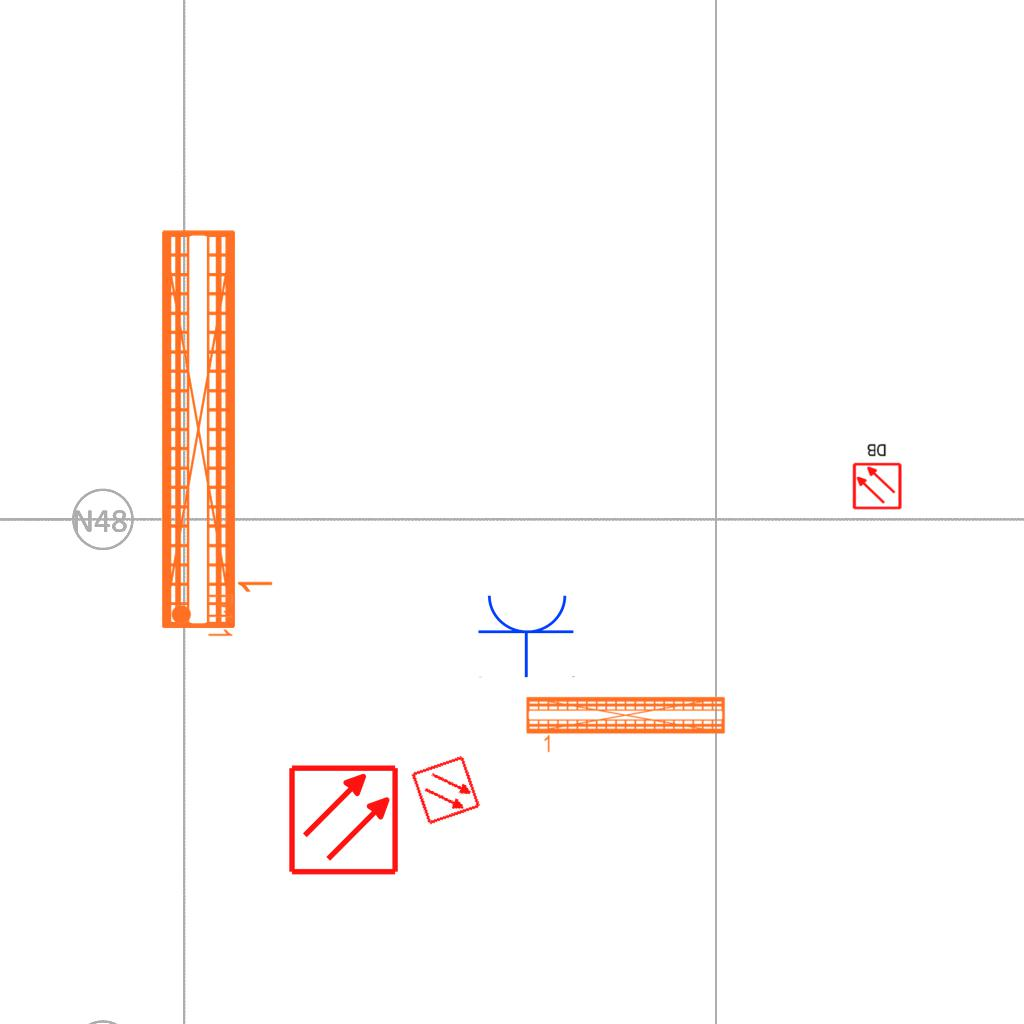Buero_Pendelleuchten_LED: (152, 222, 282, 635), (523, 692, 729, 757)
DB_Melder_in_Doppelboden_mit_Revisionsoeffnung_mind_40_x_40_cm: (848, 439, 905, 513)
Downlight_LED_Einbauleuchten_Flur_2: (170, 593, 234, 639)
RMO_Rauchmelder_optischer: (287, 763, 400, 876), (410, 754, 482, 826)
Schukosteckdose_einfach: (477, 591, 577, 678)
